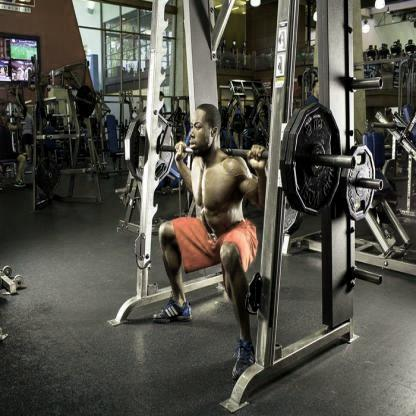Barbell: (347, 154, 355, 171), (375, 180, 382, 190)
